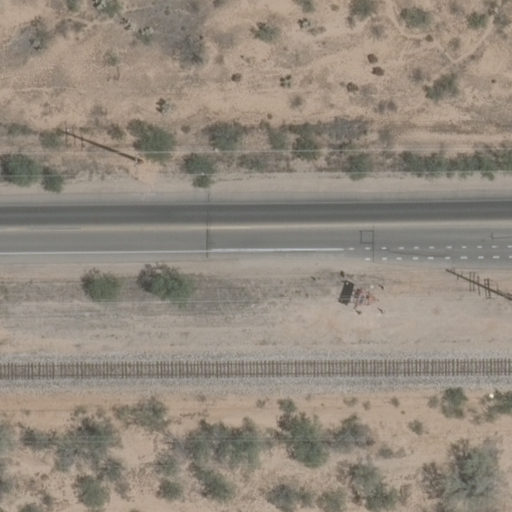DT: (54, 130, 145, 165), (448, 267, 512, 301)
